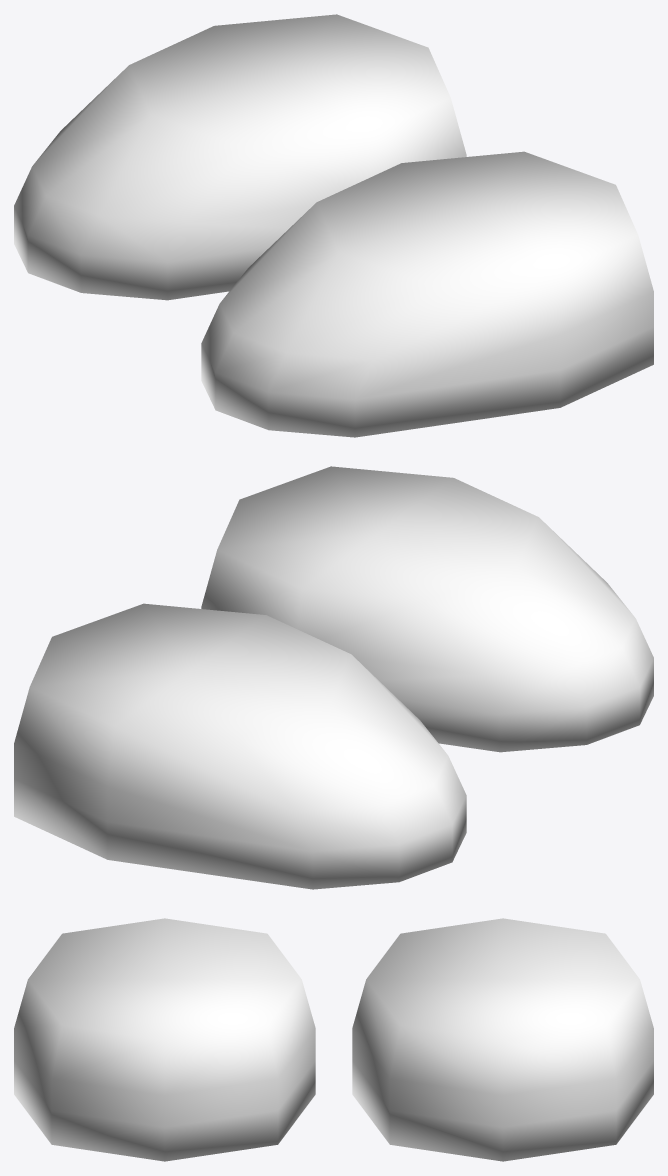
Rendered from normal_shoes.fbx.
3 renders of one model, top to bottom at view 1: azimuth 30°, elevation 25°; view 2: azimuth 150°, elevation 25°; view 3: azimuth 270°, elevation 25°, orthographic. The views are drawn at different scales.
Parts seen in each view (by area): view 1: Cube.000; view 2: Cube.000; view 3: Cube.000.
Part boxes in pixels (x1,y1,x2,y2): Cube.000: (14, 14, 653, 437); Cube.000: (14, 466, 653, 889); Cube.000: (14, 918, 653, 1161).
Bounding box in the file's own units: 78.28 × 23.11 × 116.
